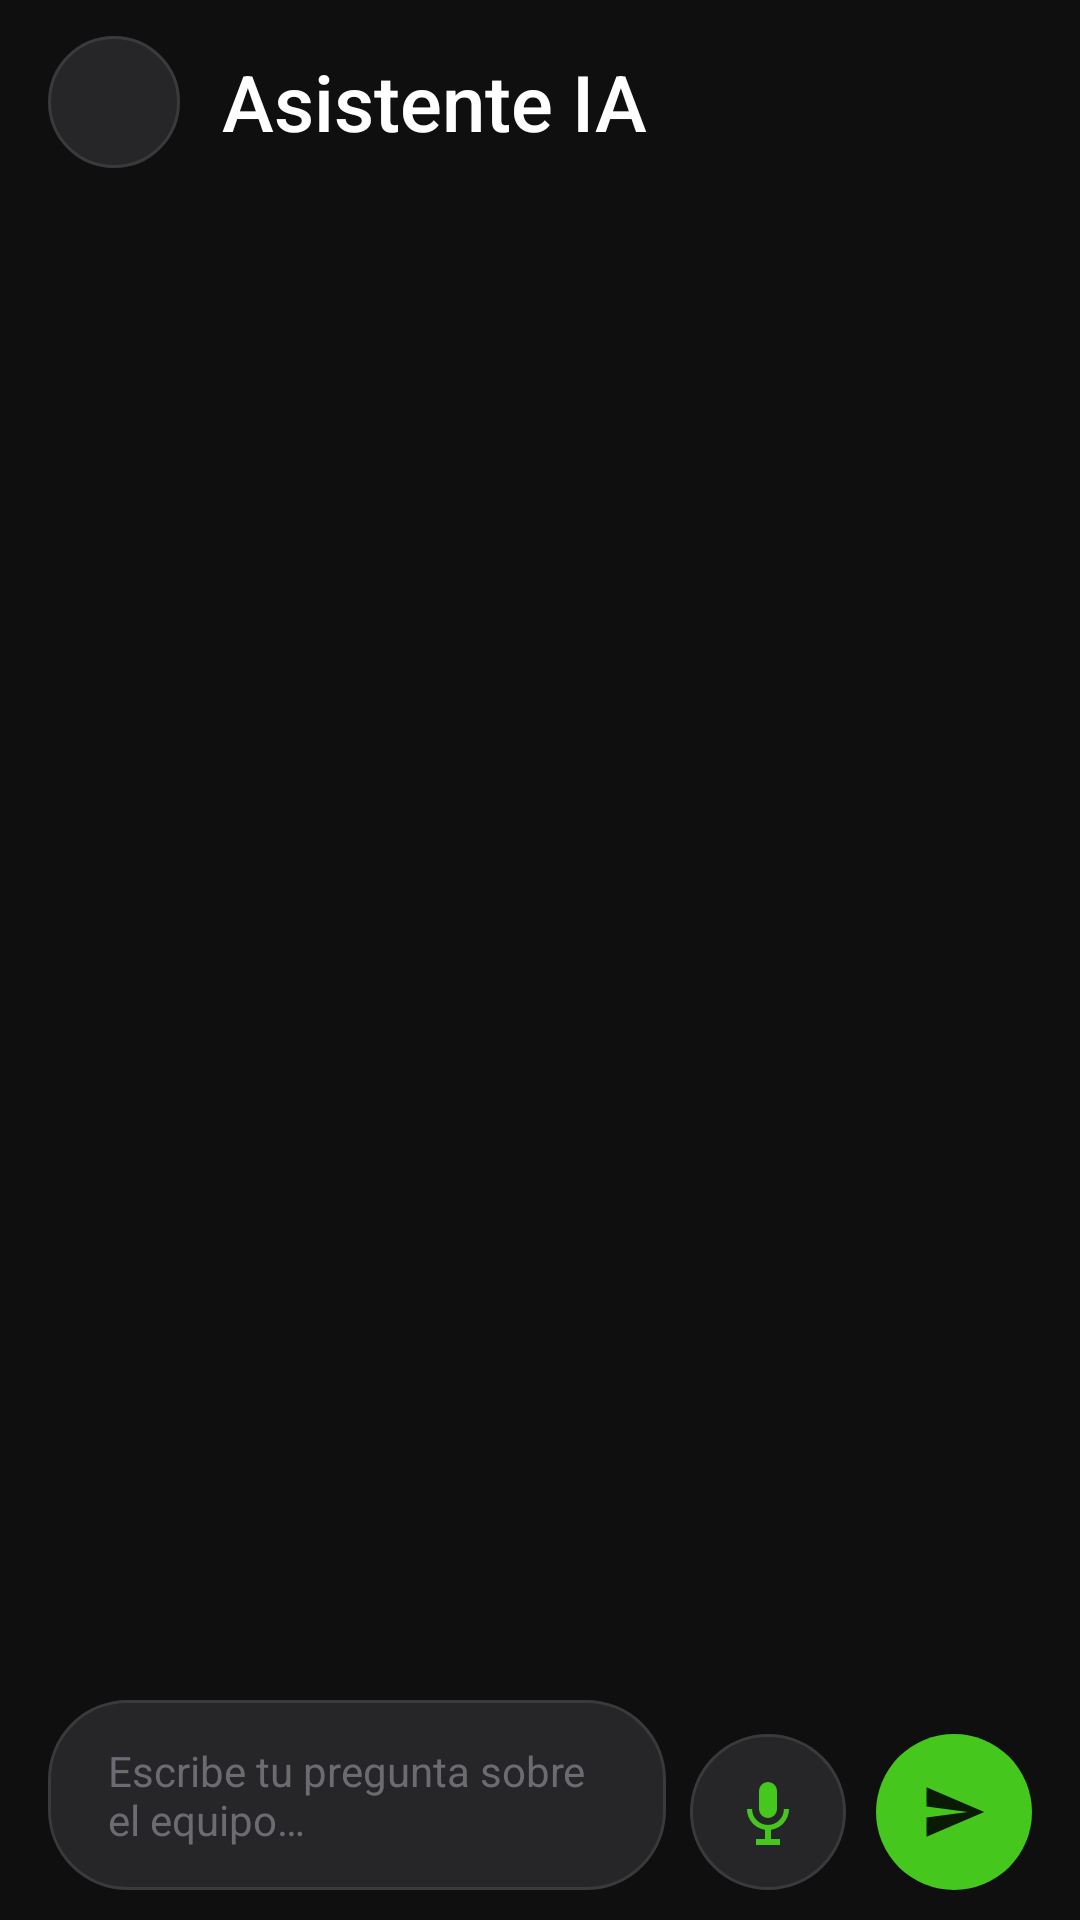

Named icons in this screenshot (1080px x 1920px) and their centers, [x,y]:
Asistente por voz: [768,1812]
Enviar: [954,1812]
